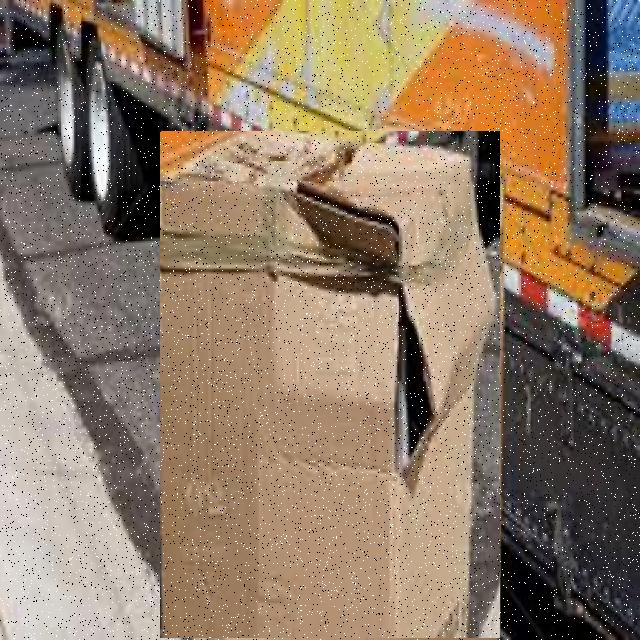defect: (160, 131, 500, 638)
